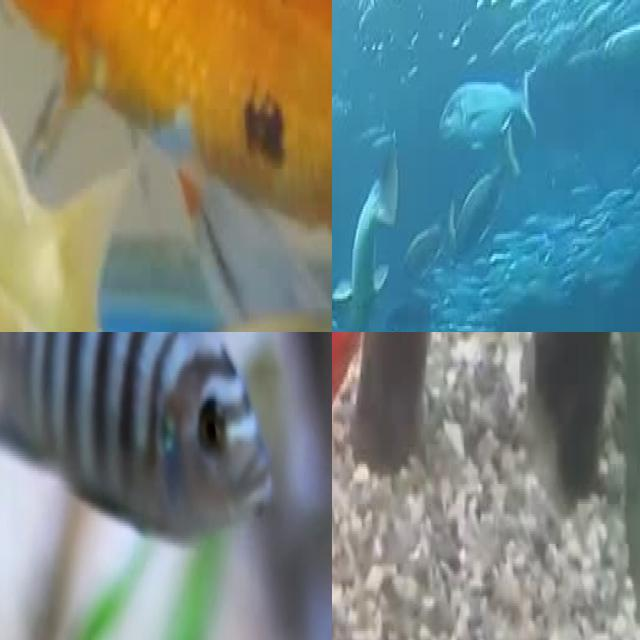fish: (0, 0, 332, 332), (0, 332, 276, 563), (332, 568, 640, 640)
